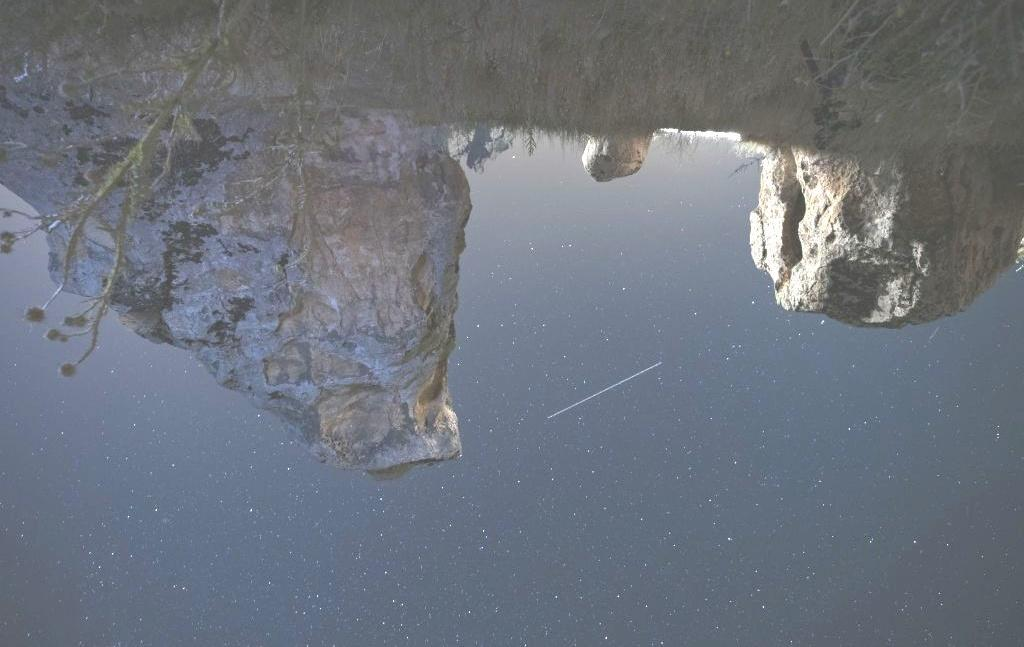meteorite: (536, 351, 672, 428)
